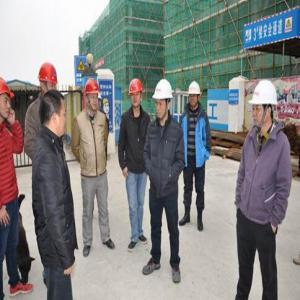none: (38, 89, 69, 143)
red: (38, 63, 60, 96), (2, 77, 15, 122), (84, 78, 101, 110), (129, 79, 144, 109)
white: (250, 80, 279, 131), (152, 79, 176, 122), (188, 83, 201, 108)
